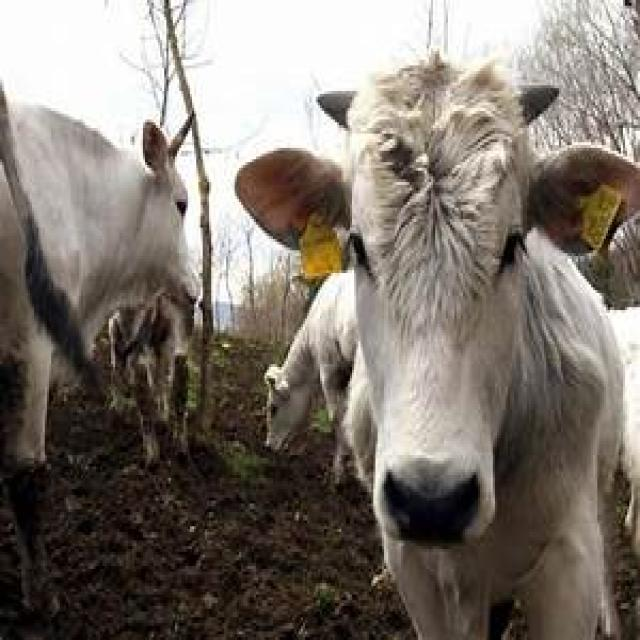cow: (284, 48, 640, 640), (0, 82, 196, 606)
